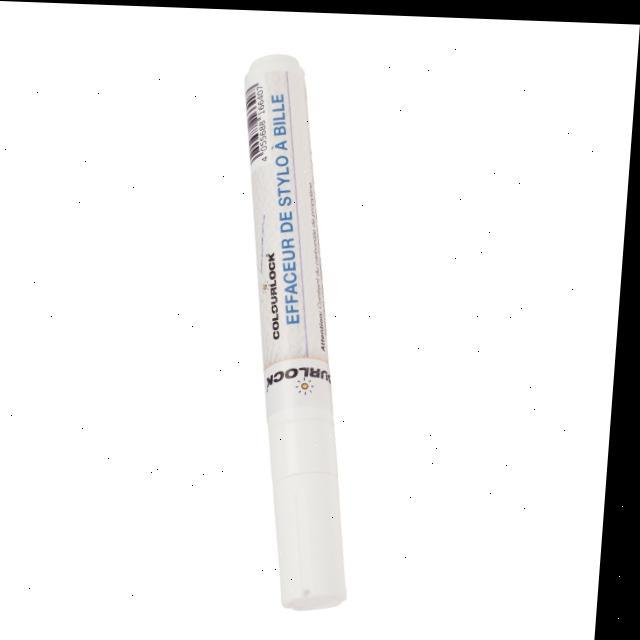pen: (212, 50, 388, 610)
